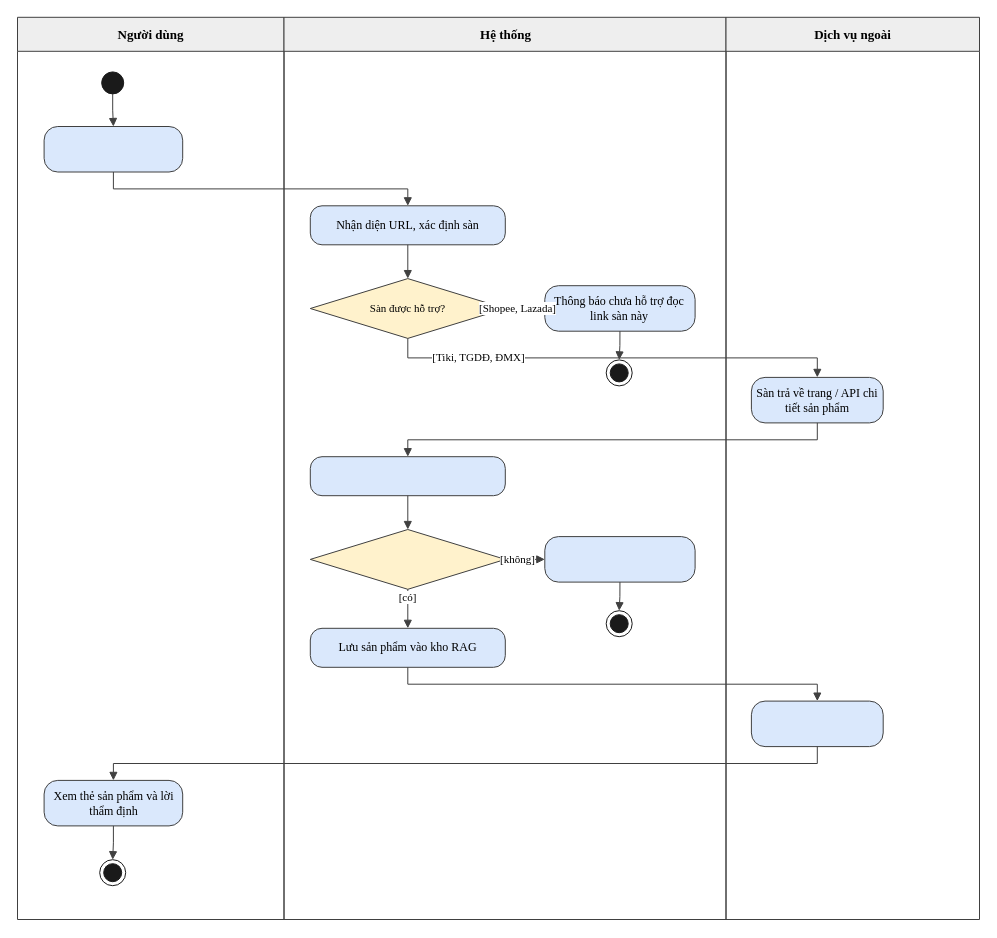
Some shapes in this 997 by 938 pixel diagram are drawn without their labels. The centre of each missing label's shape, as x and y in pixels:
"Báo chưa đọc được giá, gợi ý tìm trên các sàn" goes at point 619,559.
"Chuẩn hóa dữ liệu, kiểm định giá" goes at point 407,476.
"Dán link sản phẩm vào ô chat" goes at point 113,149.
"LLM viết lời thẩm định" goes at point 816,723.
"Đọc được giá hợp lệ?" goes at point 407,558.
